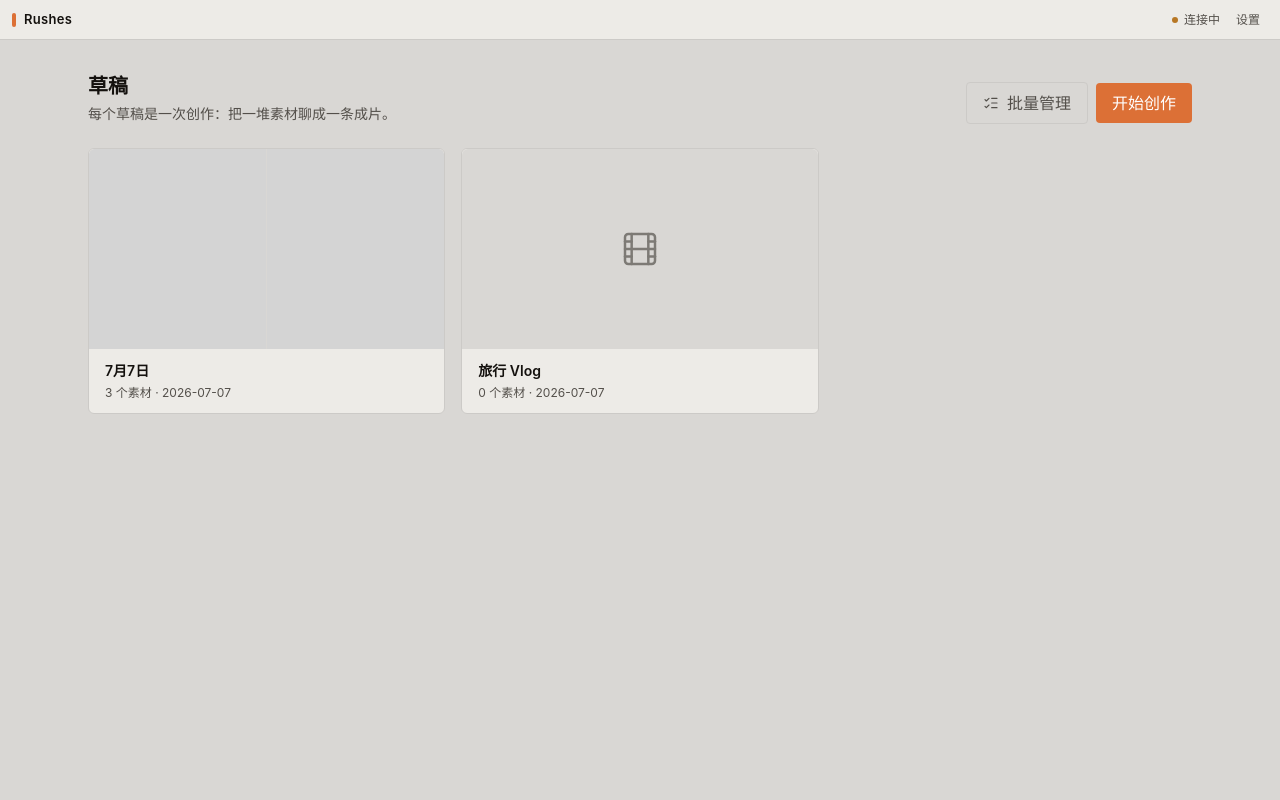
Test: DraftsHomePage › 点击设置打开全局设置弹窗，关闭后消失
The image size is (1280, 800).
Expected: the text "7月7日" is shown, [105, 362, 149, 379]
Expected: the dialog "全局设置" is not shown
Click the button "设置" at (1248, 20), box [1228, 8, 1268, 32]
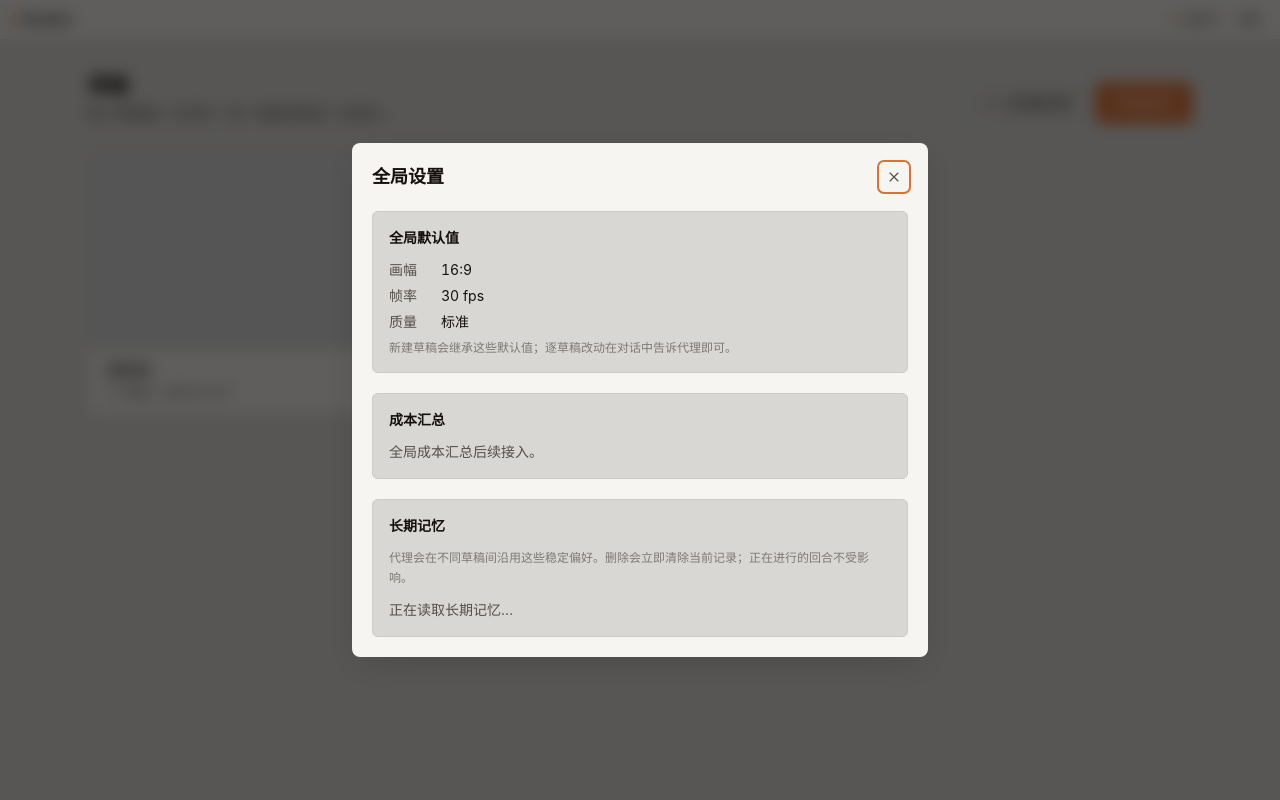
Expected: the dialog "全局设置" is shown, [352, 143, 928, 657]
Click the button named "关闭设置" at (894, 177), box [880, 163, 908, 191]
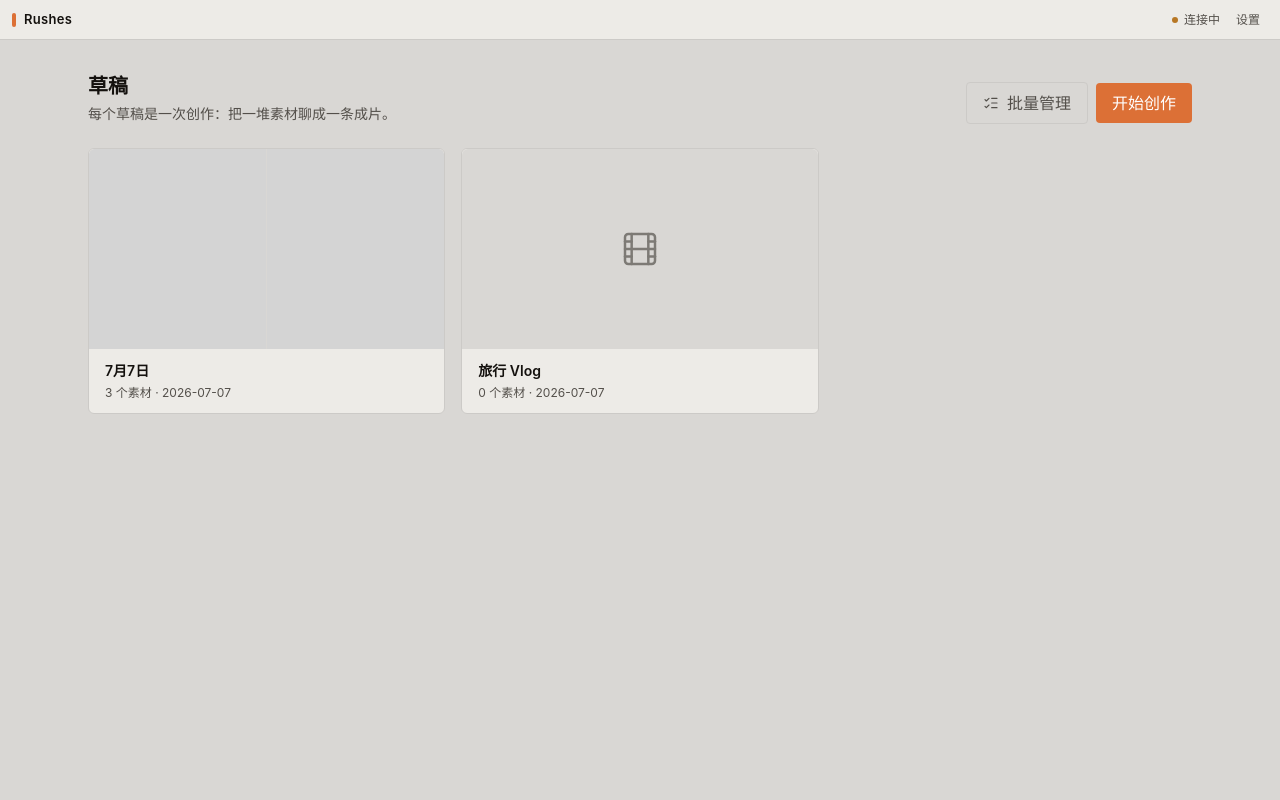
Expected: the heading "全局设置" is gone
